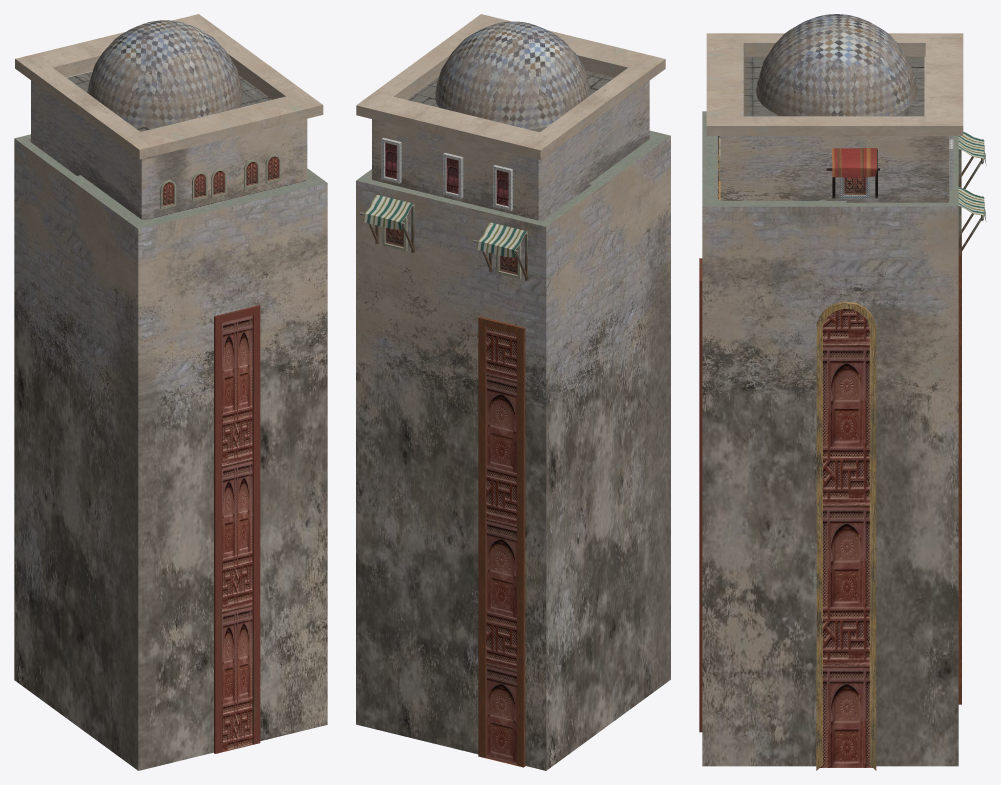
Rendered from medina_cityscape_daar_04_6.gltf.
3 views of the same model, side by side, from view 1: azimuth 30°, elevation 25°; view 2: azimuth 150°, elevation 25°; view 3: azimuth 270°, elevation 25° (orthographic). The views are drawn at different scales.
Parts seen in each view (by area): view 1: medina_cityscape_daar_04_6; view 2: medina_cityscape_daar_04_6; view 3: medina_cityscape_daar_04_6.
Boxes of the visible parts, x1,y1,x2,y2 form: medina_cityscape_daar_04_6: [14, 14, 327, 770]; medina_cityscape_daar_04_6: [356, 14, 670, 770]; medina_cityscape_daar_04_6: [699, 14, 986, 770].
Bounding box in the file's own units: 3.33 × 10.71 × 3.99.
Materials: 11 (11 with a texture image).
